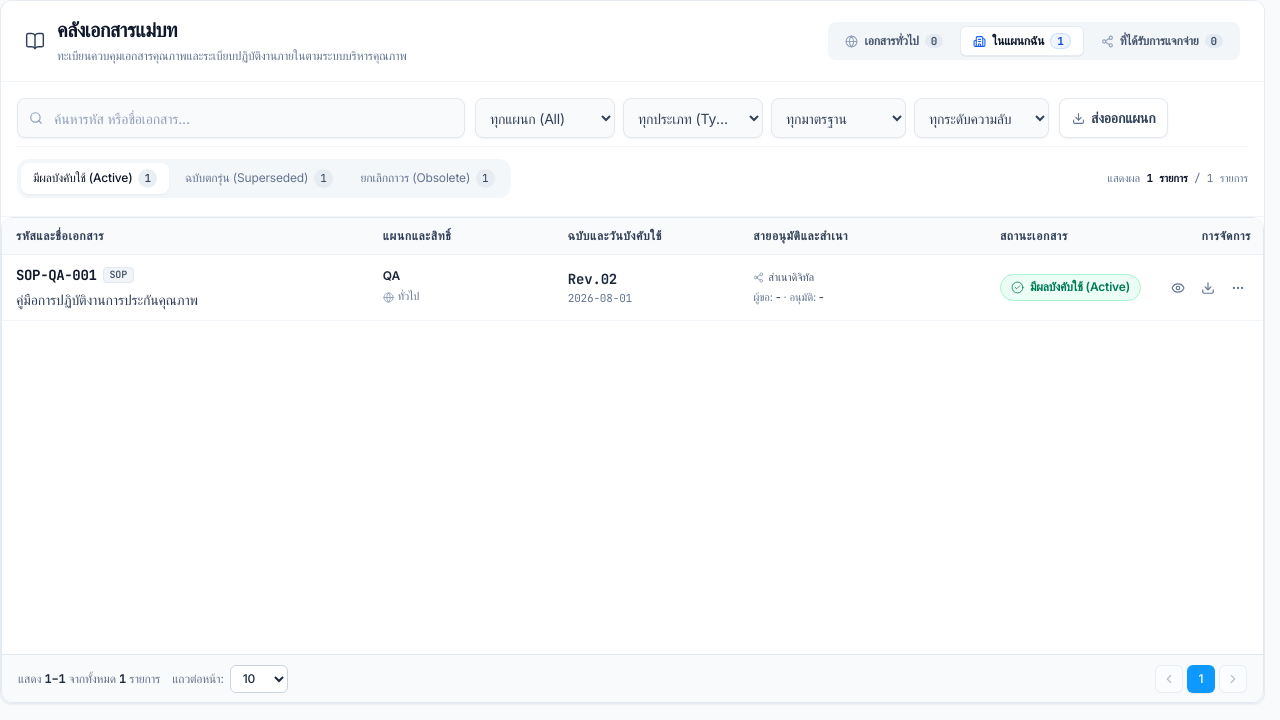
Critical System Fix: Library Status Filter Normalization & Watermark Disentanglement Tests › 1. Status Normalization & Tab Filter Verification › Renders SOP-QA-002 (SUPERSEDED_ARCHIVED) in Library when selecting Superseded status sub-tab
Note: Select status filter "ตกรุ่น (Superseded)"
What coordinates should you click on to do the following:
click the button "ฉบับตกรุ่น (Superseded) 1"
I would click on:
 (259, 178)
Its box is [173,163,345,194].
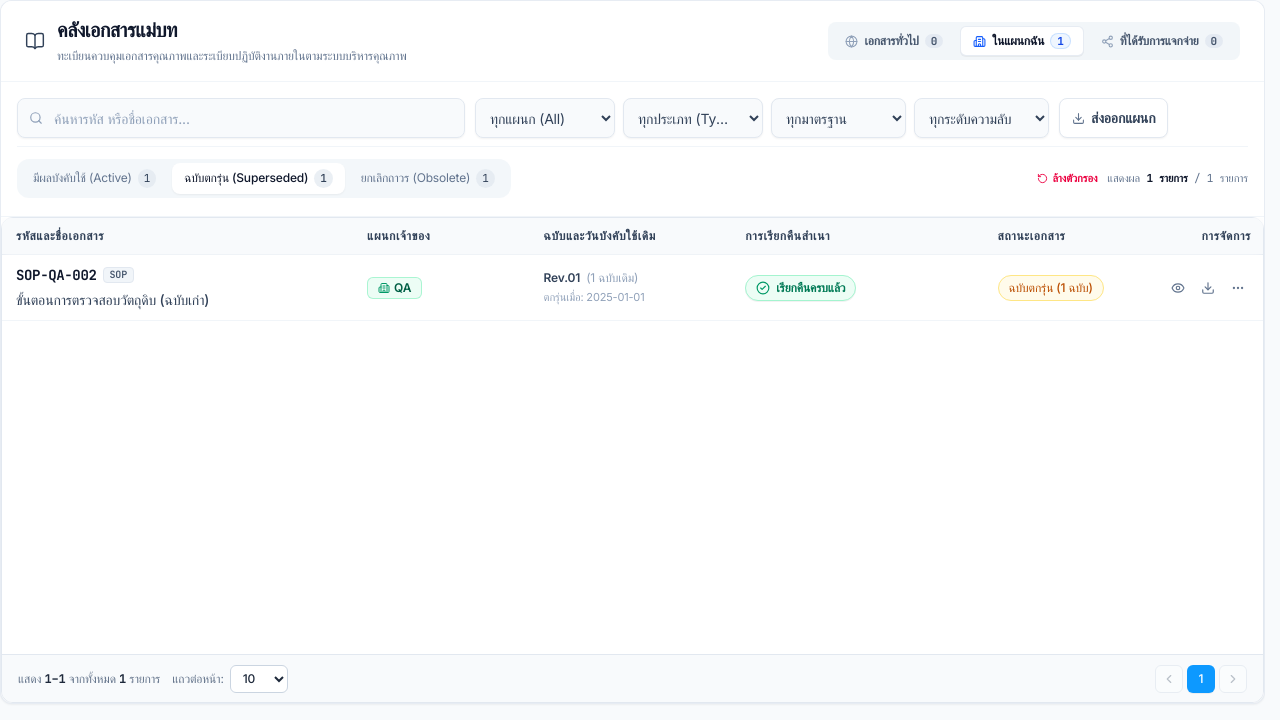
expect the text "SOP-QA-002" is shown: met, box [16,265,96,285]
